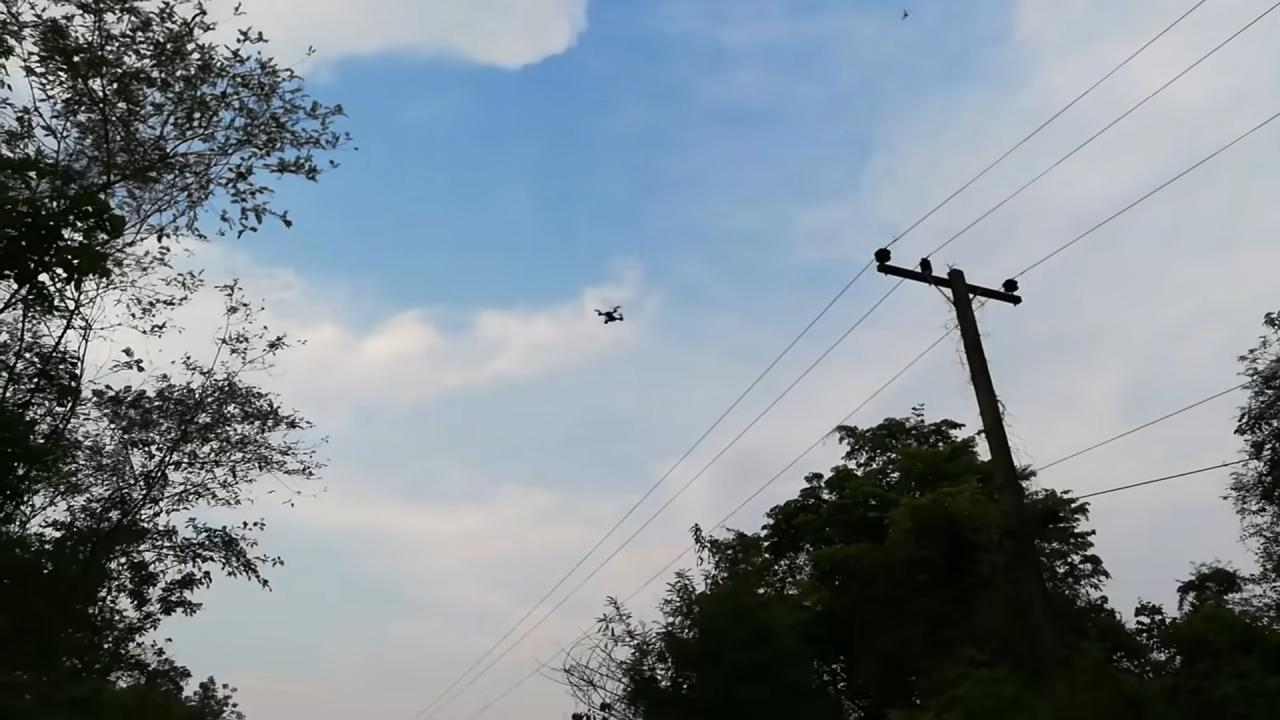Drone: (585, 299, 633, 332)
